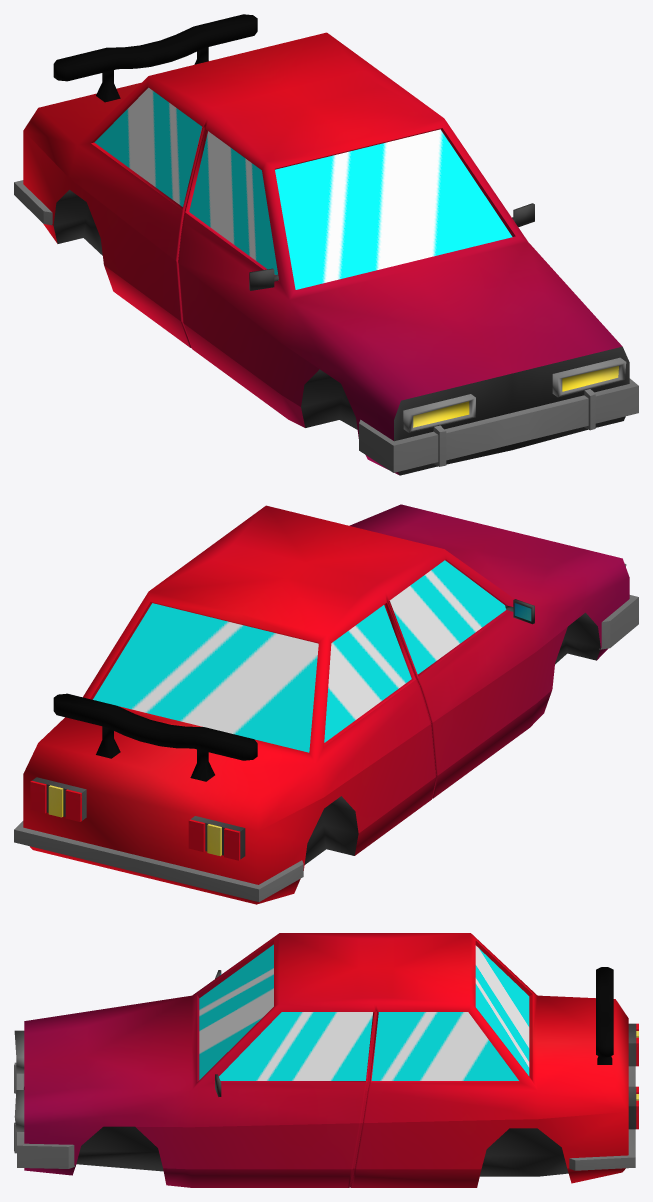
The model's file is Car_4.fbx.
The picture shows the model from 3 angles, top to bottom: view 1: azimuth 30°, elevation 25°; view 2: azimuth 150°, elevation 25°; view 3: azimuth 270°, elevation 25°; orthographic projection. The views are drawn at different scales.
Visible parts, largest first — view 1: Car_4; view 2: Car_4; view 3: Car_4.
Boxes of the visible parts, left/top/right/bottom form: Car_4: left=14, top=14, right=638, bottom=475; Car_4: left=14, top=504, right=638, bottom=904; Car_4: left=14, top=933, right=638, bottom=1187.
Bounding box in the file's own units: 246 × 176 × 575.
2 materials, 2 textured.
